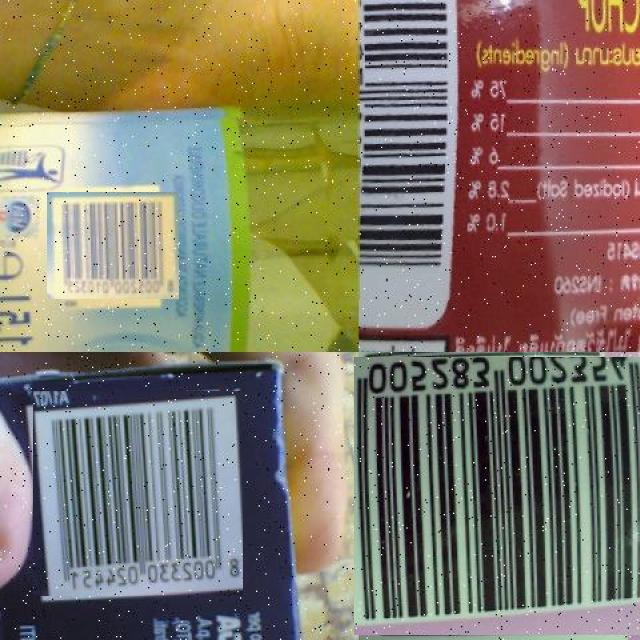Barcode: (356, 354, 640, 638), (34, 390, 242, 598), (358, 0, 466, 300), (52, 186, 172, 306)
